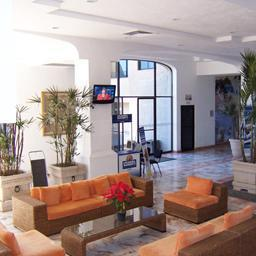Matera: (45, 92, 86, 195), (0, 110, 29, 213), (235, 50, 254, 192)
Puerta: (121, 94, 154, 148), (182, 105, 195, 150)
